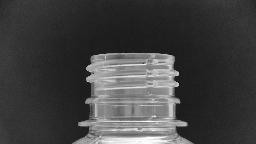No Cap: (73, 48, 191, 130)
